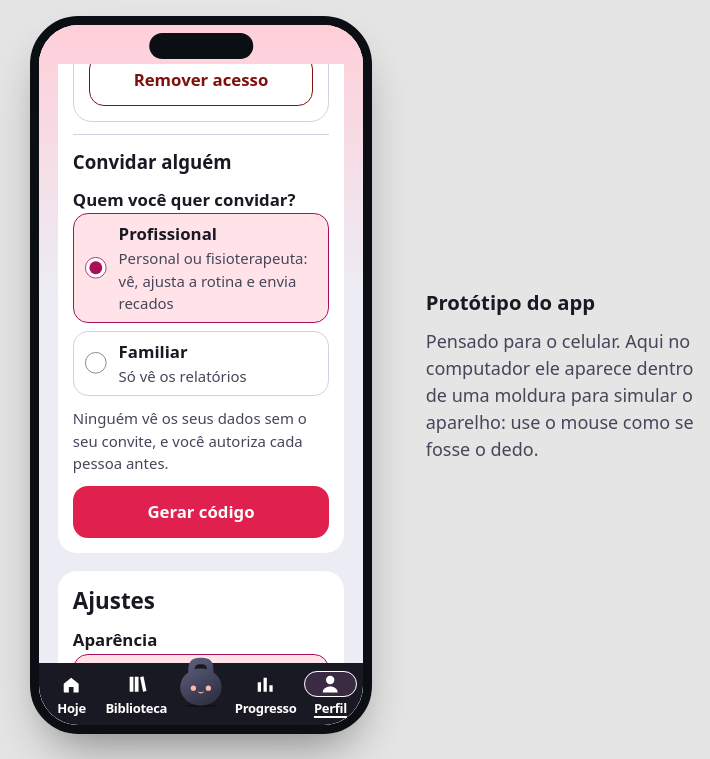
it: convidar › gera o código grande, soletrado, válido por 48 horas, e guarda o convite no estado
The image size is (710, 759).
(page scrolled)
Click the radio button labelled "Familiar Só vê os relatórios" at coordinates (96, 363), box [85,352,107,374]
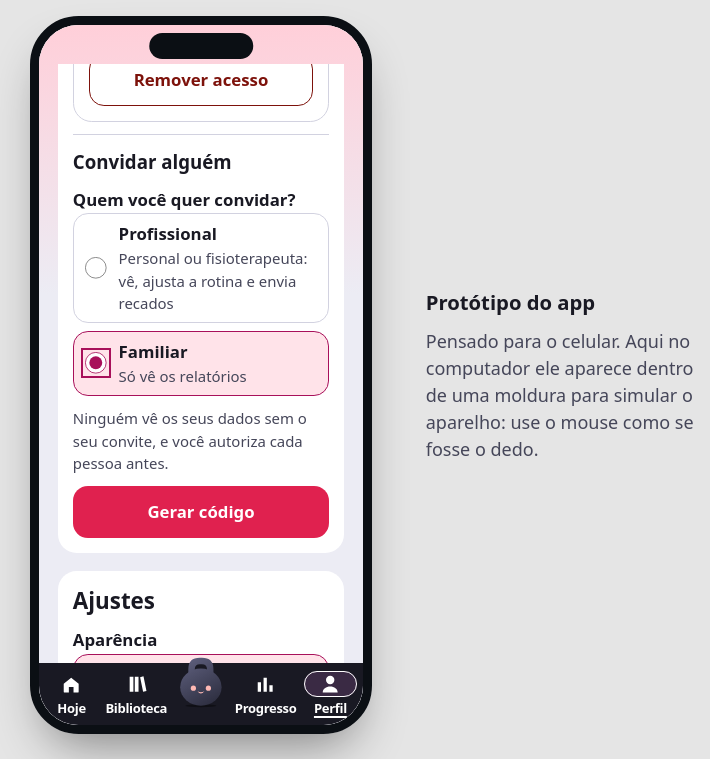
Click the button "Gerar código" at coordinates (201, 512), box [73,486,329,538]
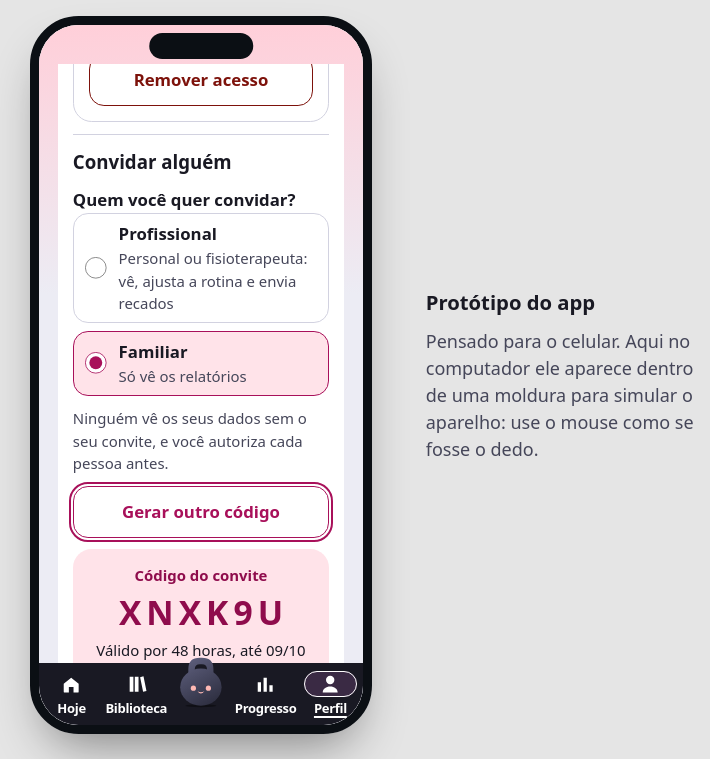
Now the text "Válido por 48 horas, até 09/10" is shown, box [96,639,306,661]
